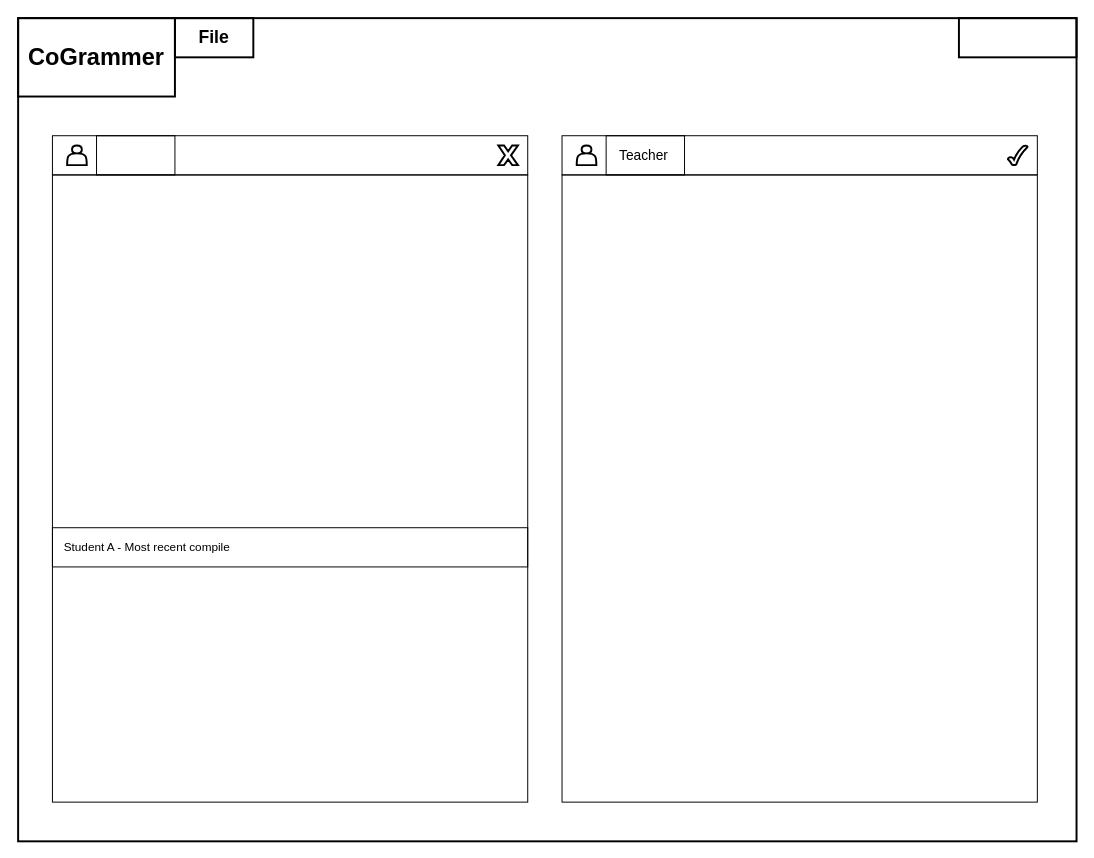
The diagram is 1094 pixels wide and 858 high, and some of its shapes have lost their labels. The shapes that lost their labels are listed below. From the top down, each one's box as (x1, y1, x2, y2) in pixels, then its label:
(957, 17, 1077, 58): Code: XAHU
(51, 135, 528, 175): Student A
